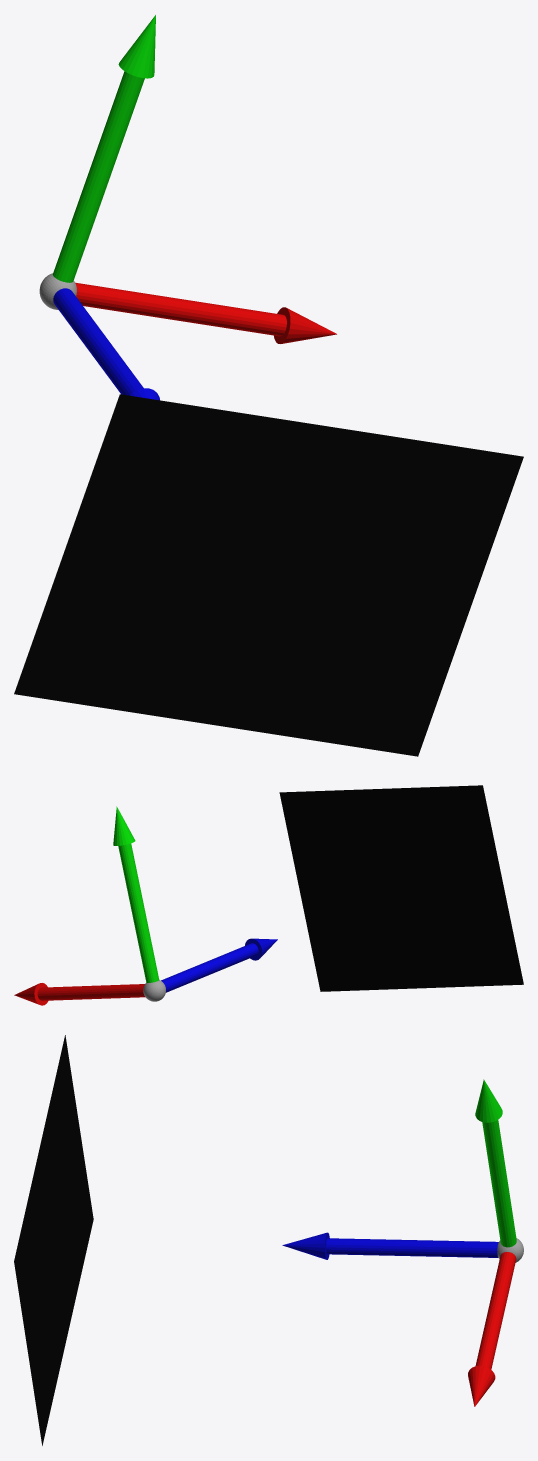
3 views of the same model, one above another, from view 1: azimuth 30°, elevation 25°; view 2: azimuth 150°, elevation 25°; view 3: azimuth 270°, elevation 25° (orthographic). The views are drawn at different scales.
Bounding box in the file's own units: 0.2671 × 0.226 × 0.2744.
